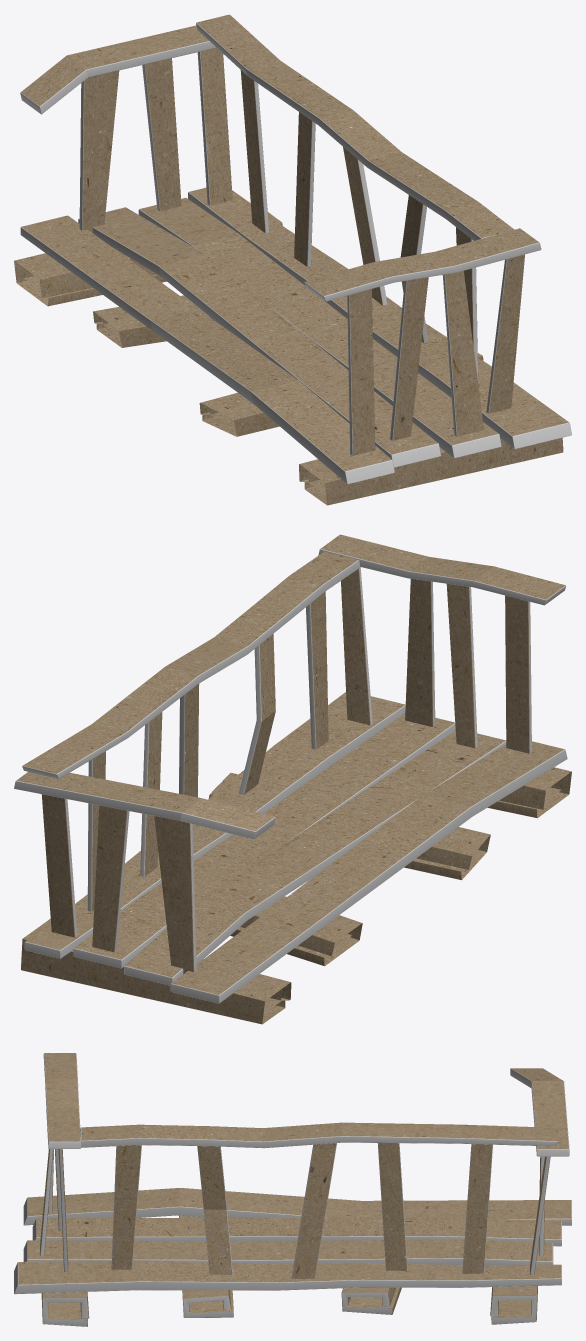
File: SM_Balcoon.FBX
The picture shows the model from 3 angles, top to bottom: view 1: azimuth 30°, elevation 25°; view 2: azimuth 150°, elevation 25°; view 3: azimuth 270°, elevation 25°; orthographic projection. The views are drawn at different scales.
Visible parts, largest first — view 1: SM_Balcoon; view 2: SM_Balcoon; view 3: SM_Balcoon.
Boxes of the visible parts, bbox=[...] form: SM_Balcoon: bbox=[14, 14, 571, 505]; SM_Balcoon: bbox=[14, 534, 571, 1024]; SM_Balcoon: bbox=[14, 1053, 571, 1326].
Bounding box in the file's own units: 3.4 × 2.73 × 7.64.
